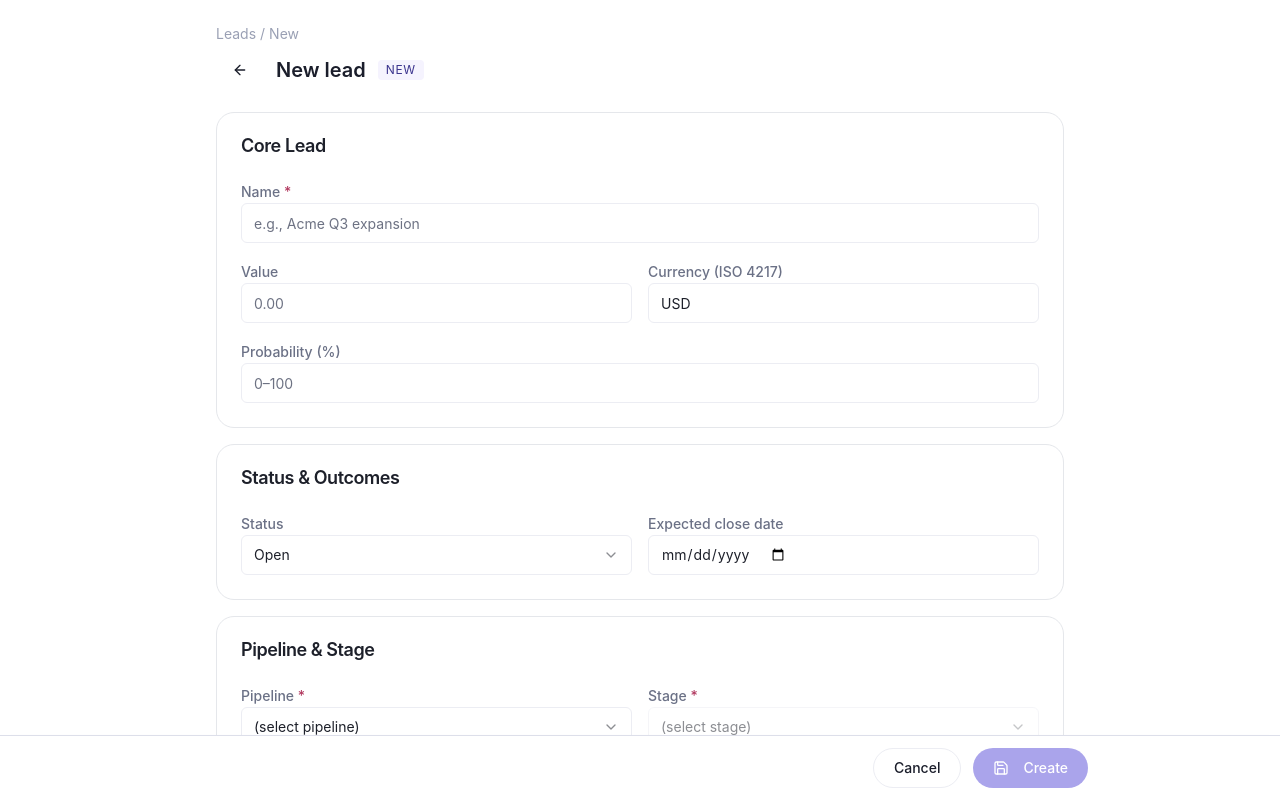
Test: KAN-938 — OpportunityForm › (6) Validation: missing pipeline/stage/contact → required errors
Type "Acme expansion" into the field labelled "Name *".
click(640, 223); type("Acme expansion")  # box [241, 203, 1039, 243]
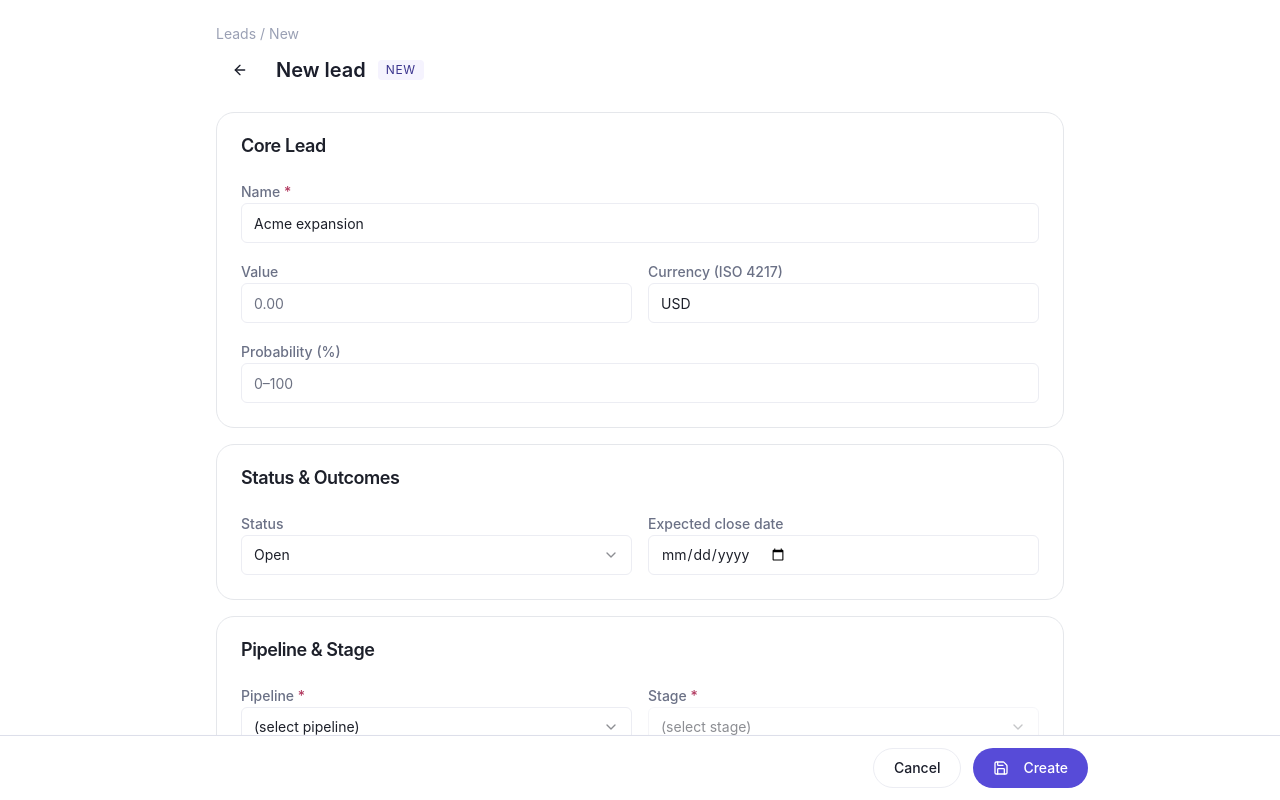
Click the button "Create".
click(1031, 768)  # box [973, 748, 1088, 788]
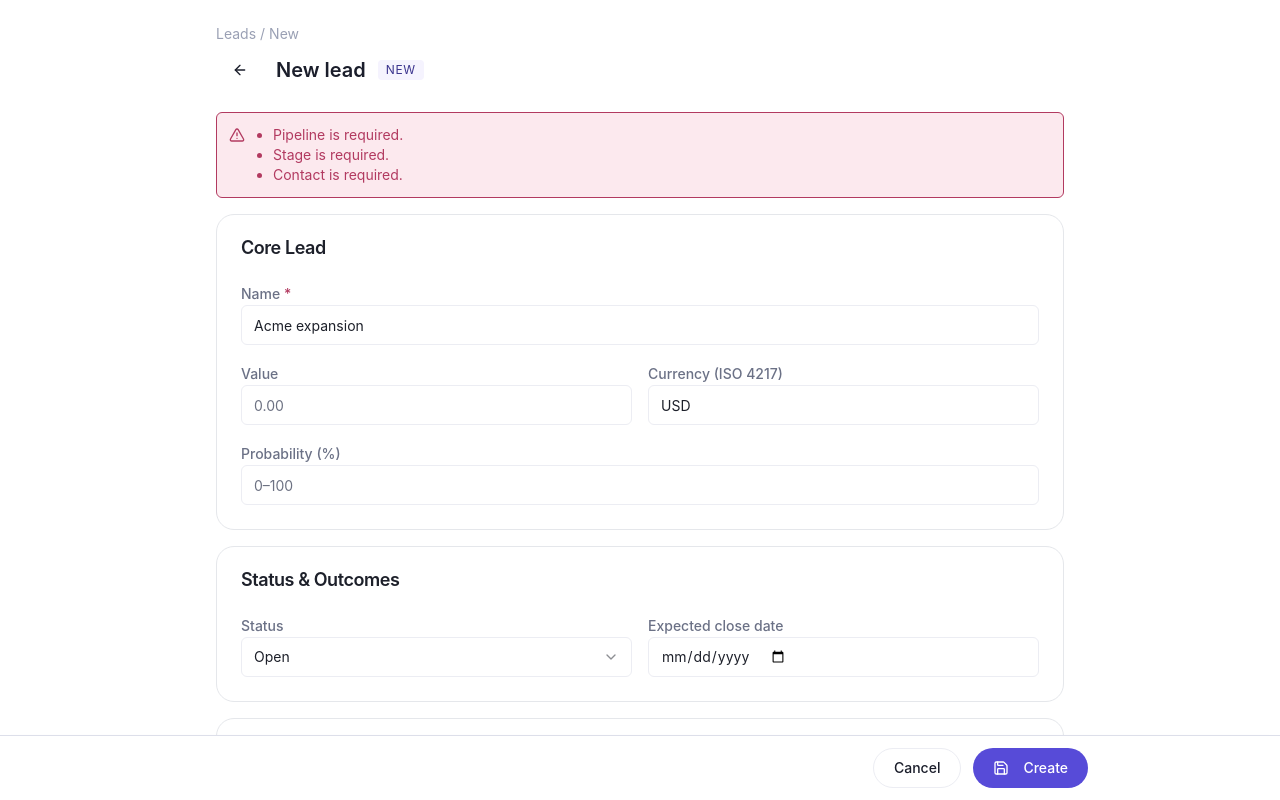
Now the list item "Pipeline is required." is shown, box [273, 125, 403, 145]
Now the list item "Stage is required." is shown, box [273, 145, 403, 165]
Now the list item "Contact is required." is shown, box [273, 165, 403, 185]
